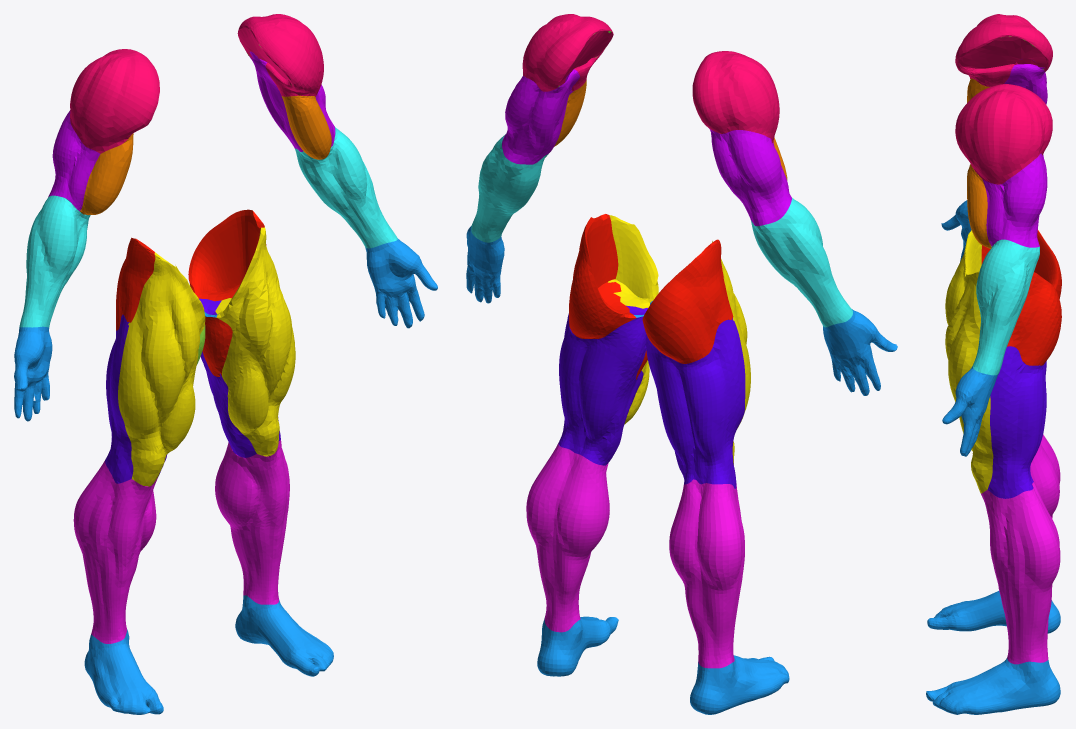
Rendered from extremidades.glb.
3 renders of one model, left to right at view 1: azimuth 30°, elevation 25°; view 2: azimuth 150°, elevation 25°; view 3: azimuth 270°, elevation 25°, orthographic. The views are drawn at different scales.
Visible parts, largest first — view 1: model_part25, model_part22, model_part24, model_part23, model_part17, model_part16, model_part15, model_part18, model_part14, model_part1, model_part2, model_part3 (+9 smaller); view 2: model_part21, model_part24, model_part23, model_part20, model_part19, model_part17, model_part16, model_part14, model_part13, model_part18, model_part12, model_part15 (+7 smaller); view 3: model_part23, model_part18, model_part20, model_part15, model_part1, model_part17, model_part12, model_part22, model_part14, model_part2, model_part3, model_part24 (+6 smaller).
Part boxes in pixels (box(x1,y1,x2,y2)): model_part25: box(118, 252, 205, 486); model_part22: box(215, 227, 295, 456); model_part24: box(73, 461, 157, 643); model_part23: box(215, 440, 289, 604); model_part17: box(70, 49, 159, 153); model_part16: box(19, 195, 90, 327); model_part15: box(294, 126, 397, 248); model_part18: box(237, 14, 323, 96); model_part14: box(188, 209, 266, 301); model_part1: box(235, 595, 333, 676); model_part2: box(84, 629, 163, 714); model_part3: box(365, 238, 437, 328); model_part21: box(646, 318, 745, 488); model_part24: box(669, 479, 744, 668); model_part23: box(526, 443, 609, 632); model_part20: box(558, 305, 647, 465); model_part19: box(642, 239, 733, 363); model_part17: box(692, 51, 779, 142); model_part16: box(751, 198, 852, 327); model_part14: box(569, 214, 636, 338); model_part13: box(709, 128, 791, 226); model_part18: box(522, 14, 613, 91); model_part12: box(502, 69, 579, 164); model_part15: box(471, 134, 548, 242); model_part23: box(981, 482, 1060, 664); model_part18: box(955, 84, 1052, 184); model_part20: box(987, 346, 1046, 498); model_part15: box(972, 239, 1039, 375); model_part1: box(926, 657, 1060, 714); model_part17: box(955, 14, 1052, 86); model_part12: box(982, 153, 1047, 247); model_part22: box(945, 271, 993, 493); model_part14: box(1007, 272, 1061, 365); model_part2: box(927, 591, 1060, 633); model_part3: box(942, 366, 998, 456); model_part24: box(1030, 434, 1060, 518).
Bounding box in the file's own units: 0.0837 × 0.12 × 0.0242.
